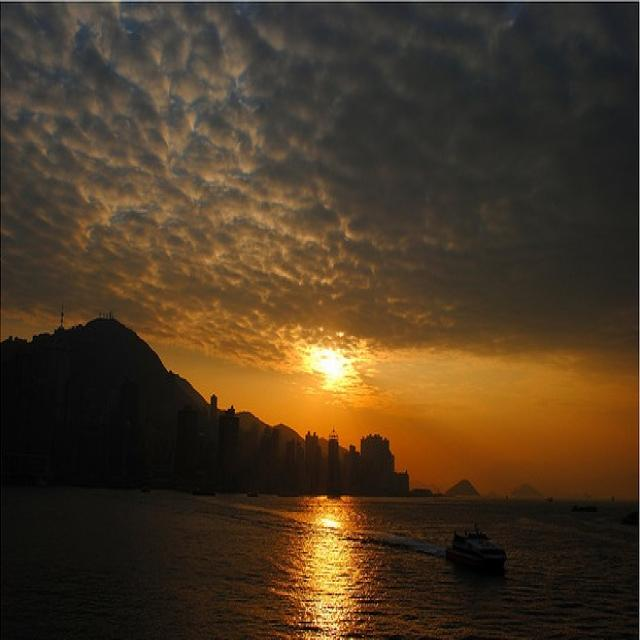Boat: (432, 521, 518, 589)
